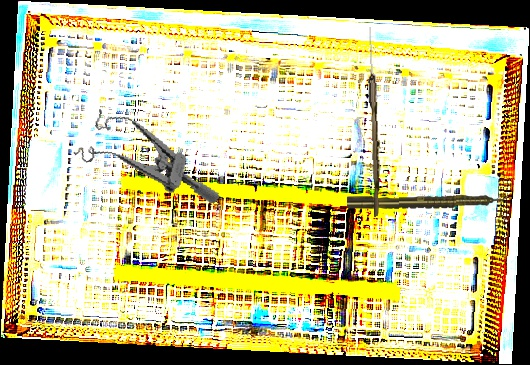Handpiece: (346, 192, 509, 211)
Speculum: (68, 105, 234, 205)
Surgical Spoon: (364, 26, 384, 217)
